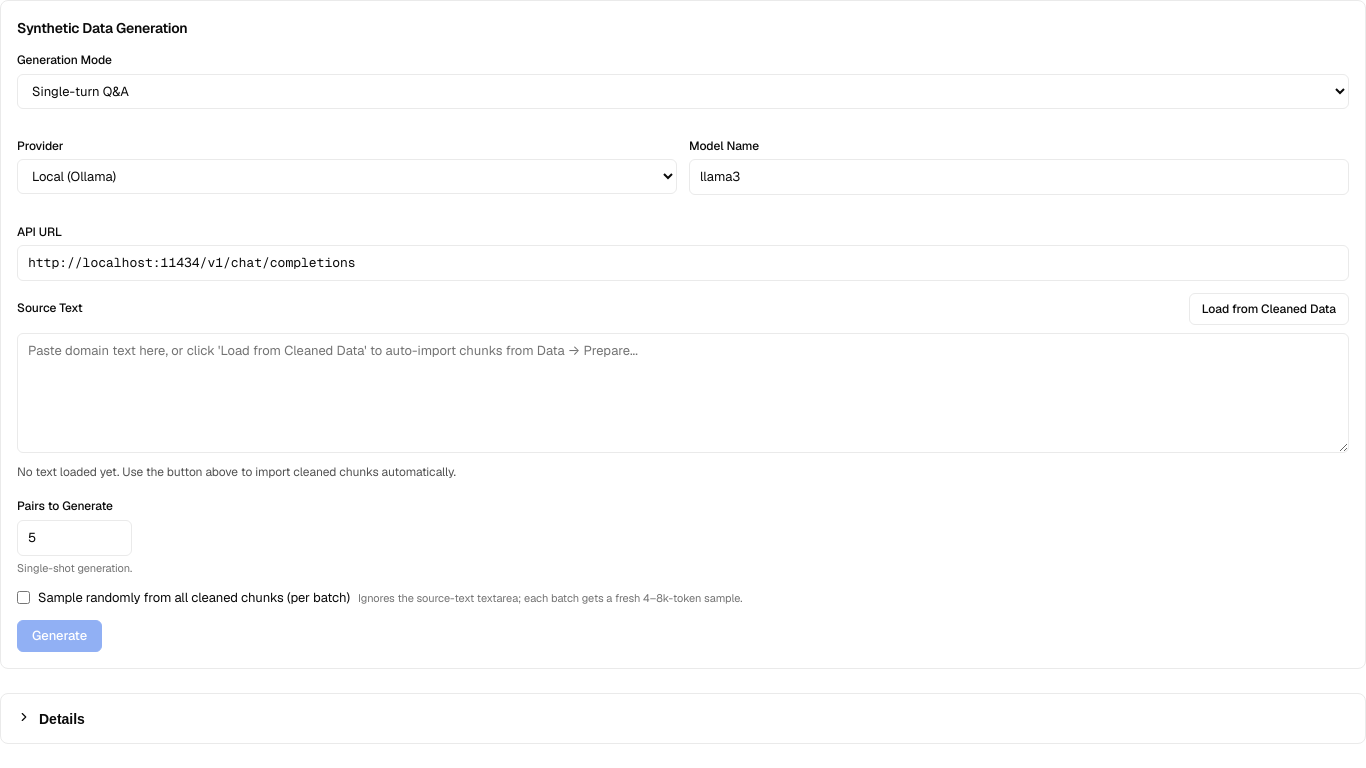
Test: SyntheticPanel — QA + Conversation parity (USER-SUCCESS Epic 2c) › lets the QA "pairs to generate" input accept values above 50
Replace the text in the number field with test id "qa-num-pairs" with "500" at (75, 538), box [17,520,132,556]
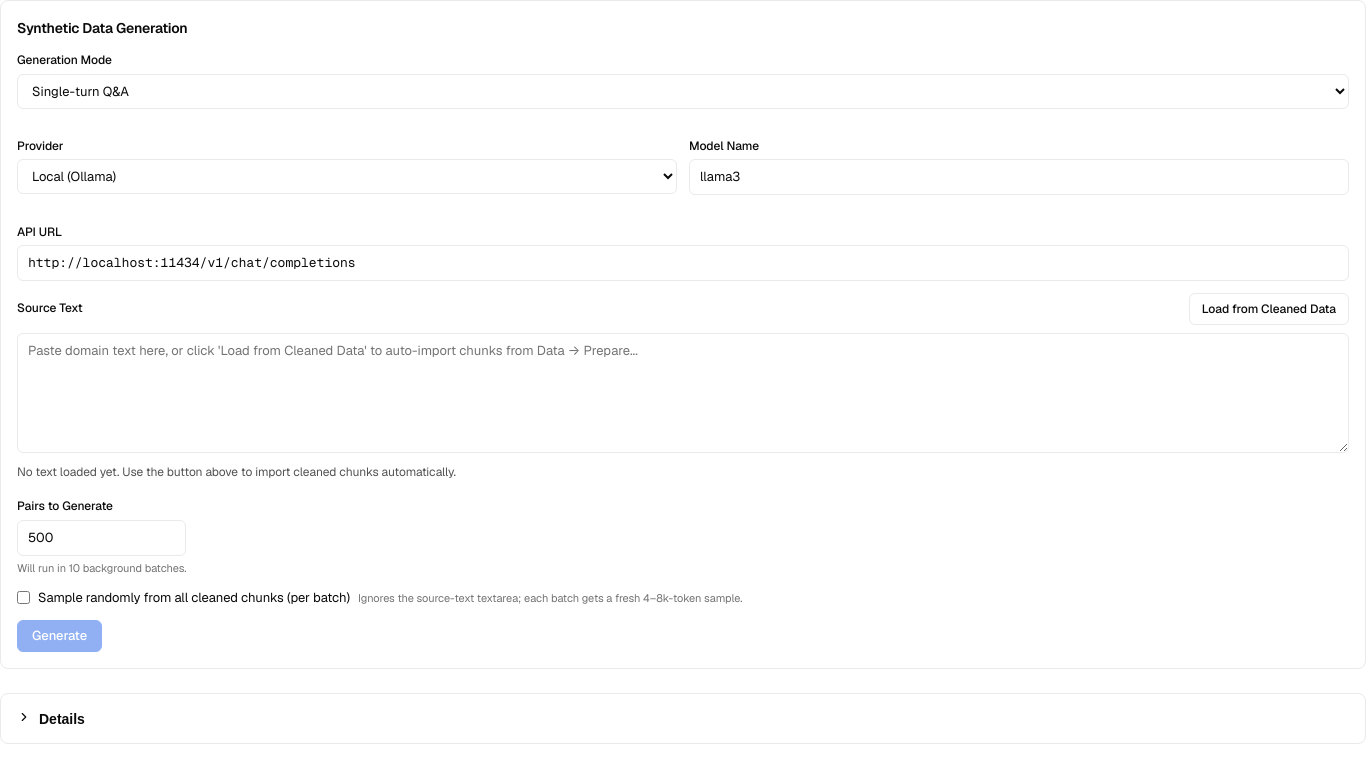
Check: the text "Will run in 10 background batches." is shown, box [17,560,186,576]
